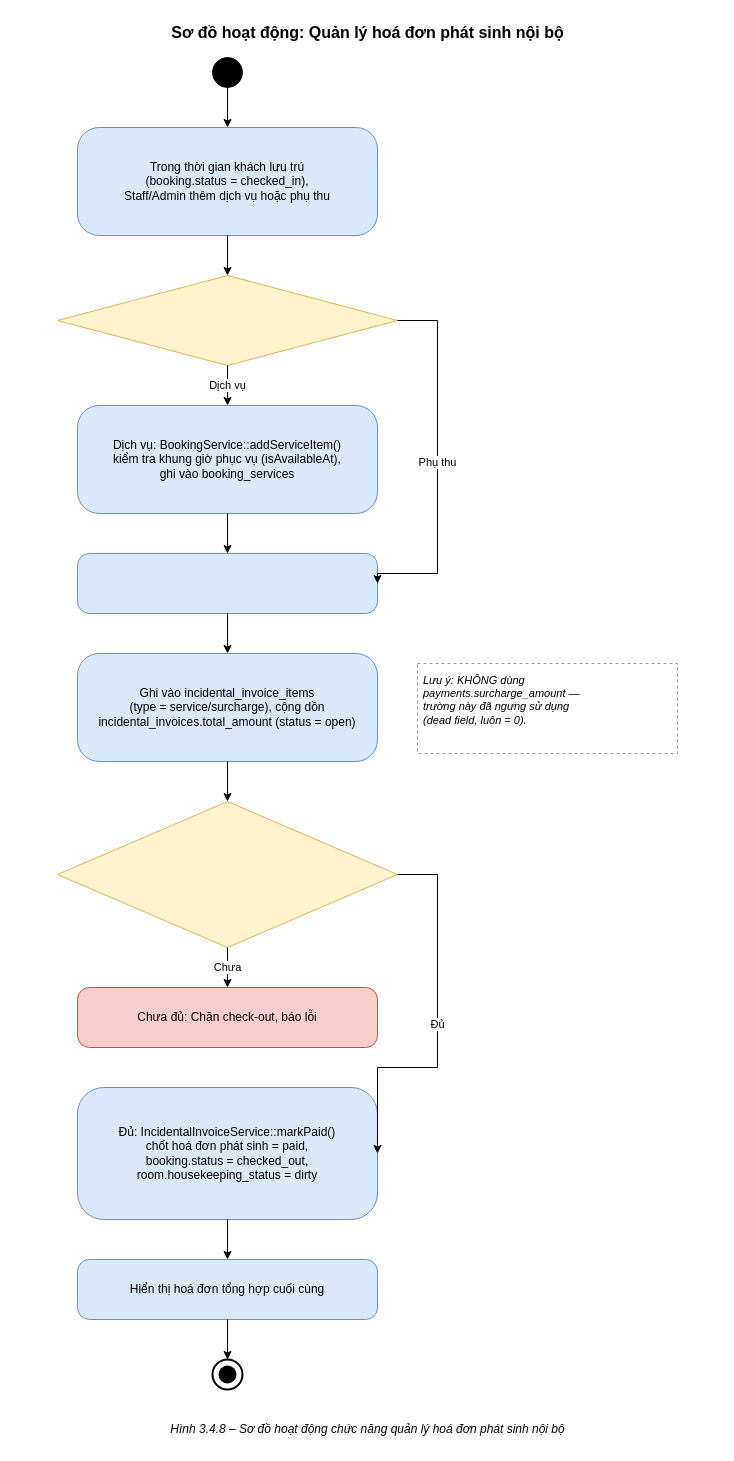
Image size: 734x1461. Some labels were removed from this diagram. Each missing label, with the centre of its shape:
Khi check-out: Đã thanh toán đủ? (payment.status = paid): (x=227, y=874)
Loại phát sinh?: (x=227, y=320)
Phụ thu: BookingService::addSurcharge(): (x=227, y=583)
